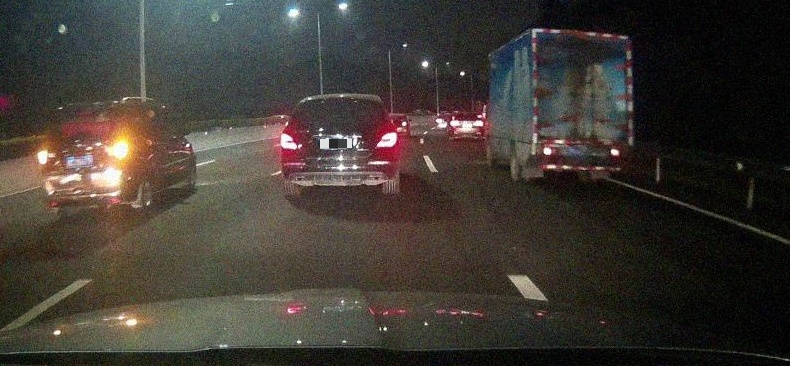L_light: (281, 133, 298, 150), (40, 150, 55, 163), (543, 148, 558, 156)
R_light: (376, 131, 397, 148), (104, 143, 128, 157), (611, 149, 625, 156)
T_light: (578, 37, 593, 42), (81, 115, 95, 119), (331, 101, 345, 104)
night-no: (531, 29, 634, 187), (280, 95, 399, 199)
night-right: (40, 104, 131, 215)
plate_1: (320, 139, 352, 149)
